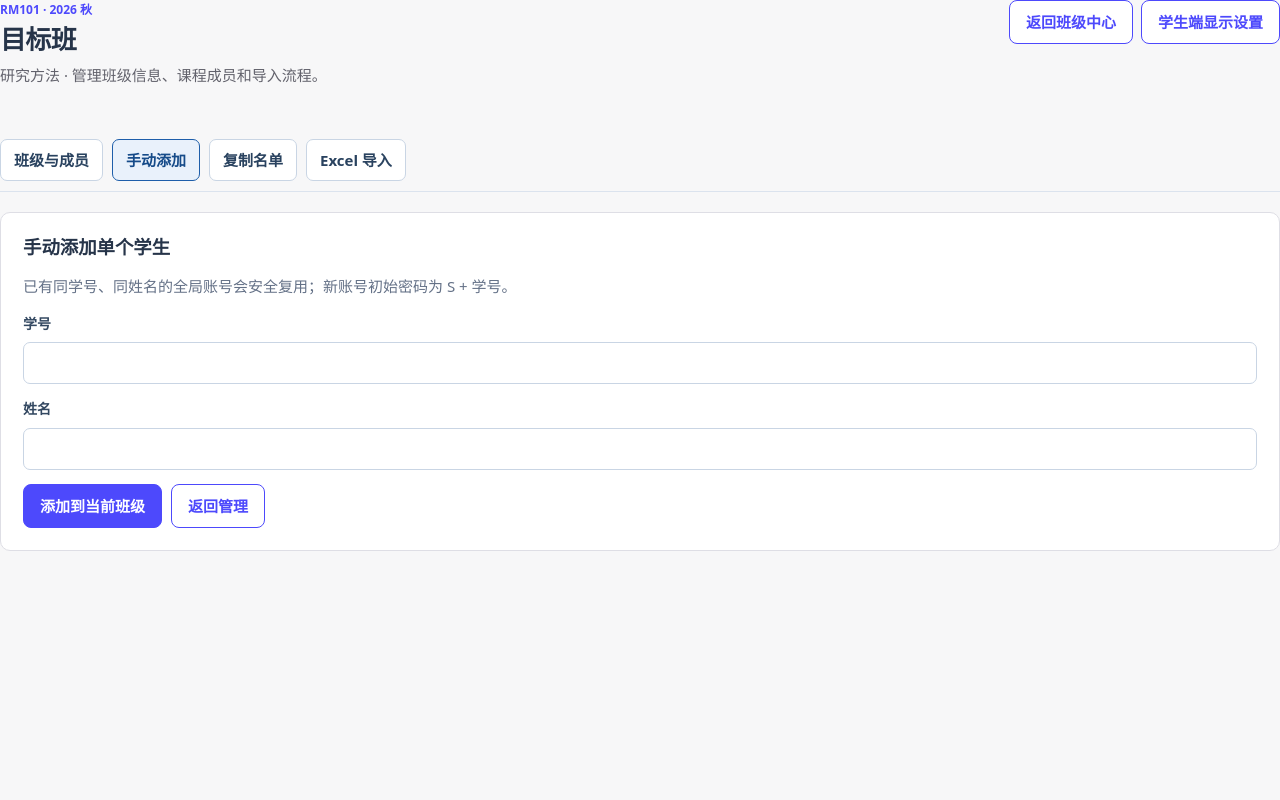
Scenario: TeacherClassManagement › discards a stale confirmation and refreshes authoritative management state
Type "S001" into the field named "student_number" at [640, 364], box [23,342,1257,384]
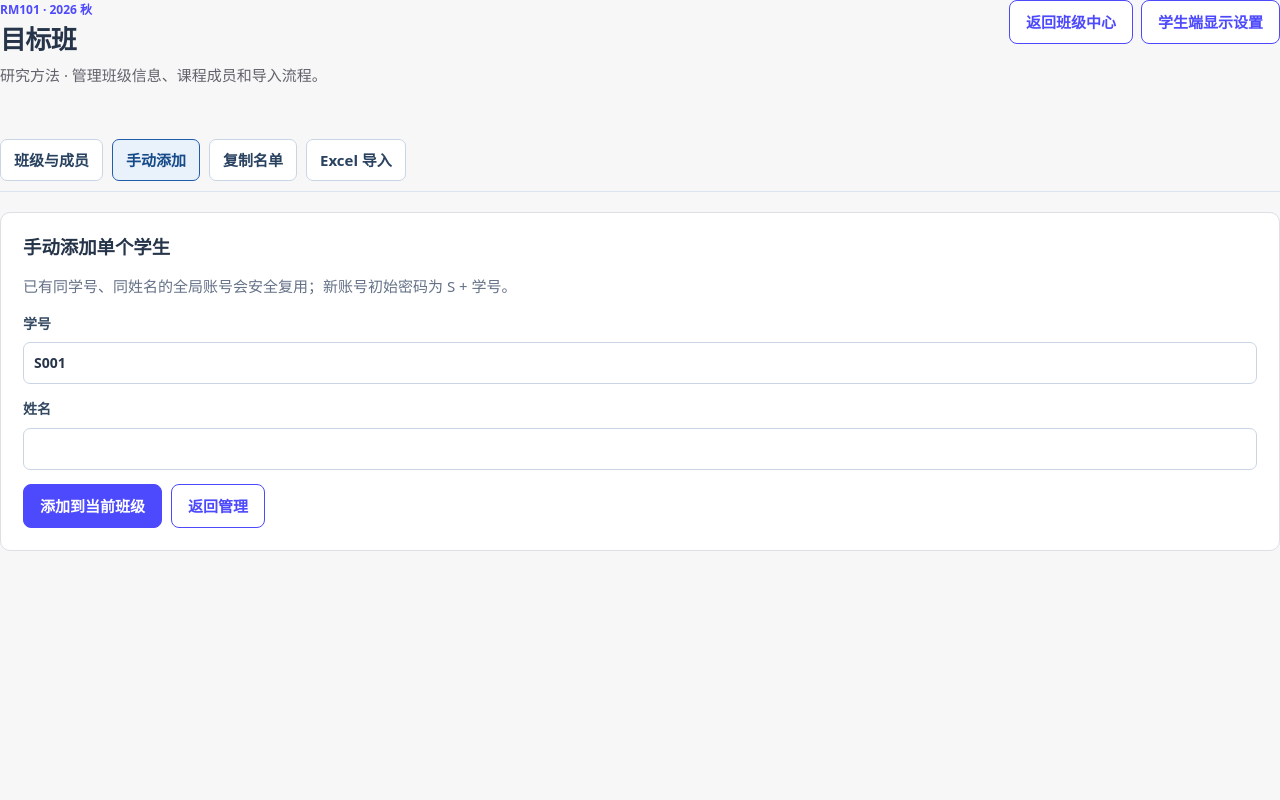
Type "新姓名" into the field named "display_name" at [640, 449], box [23,428,1257,470]
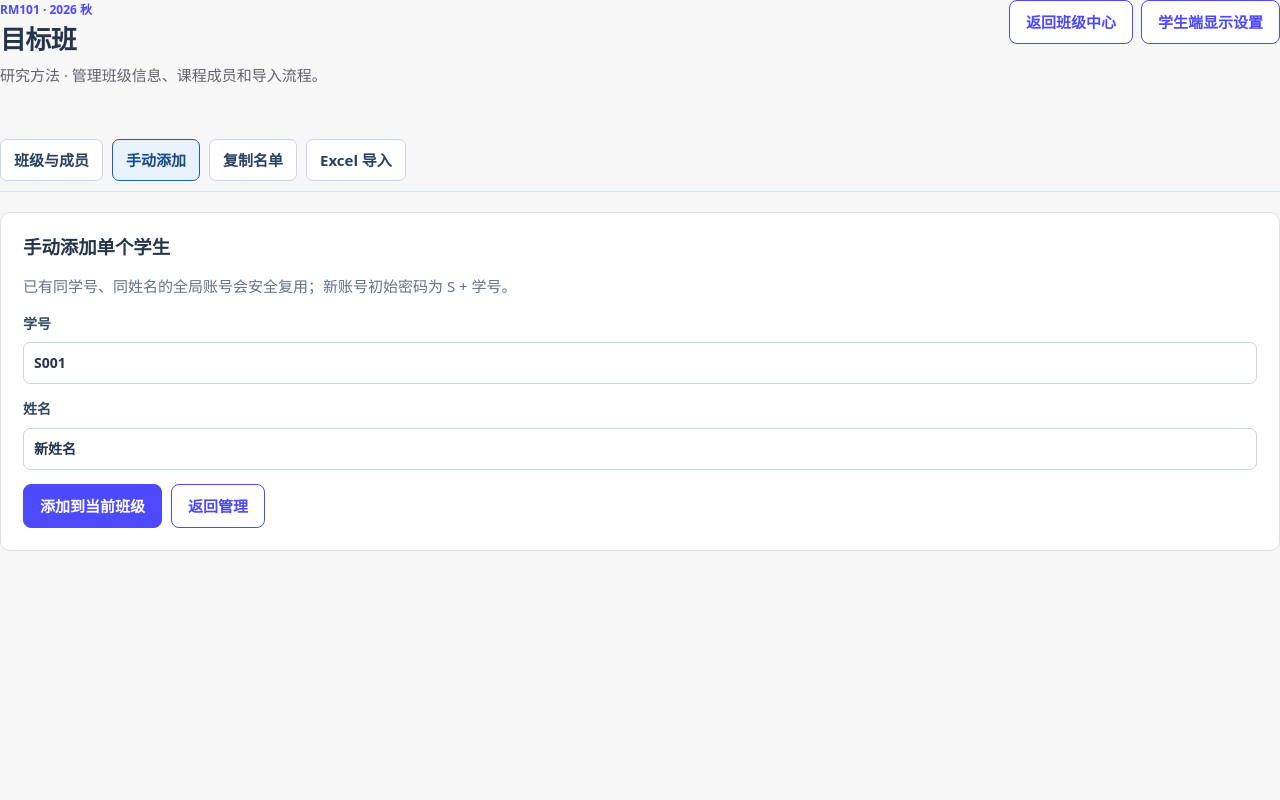
Submit the form, box [23,313,1257,528]
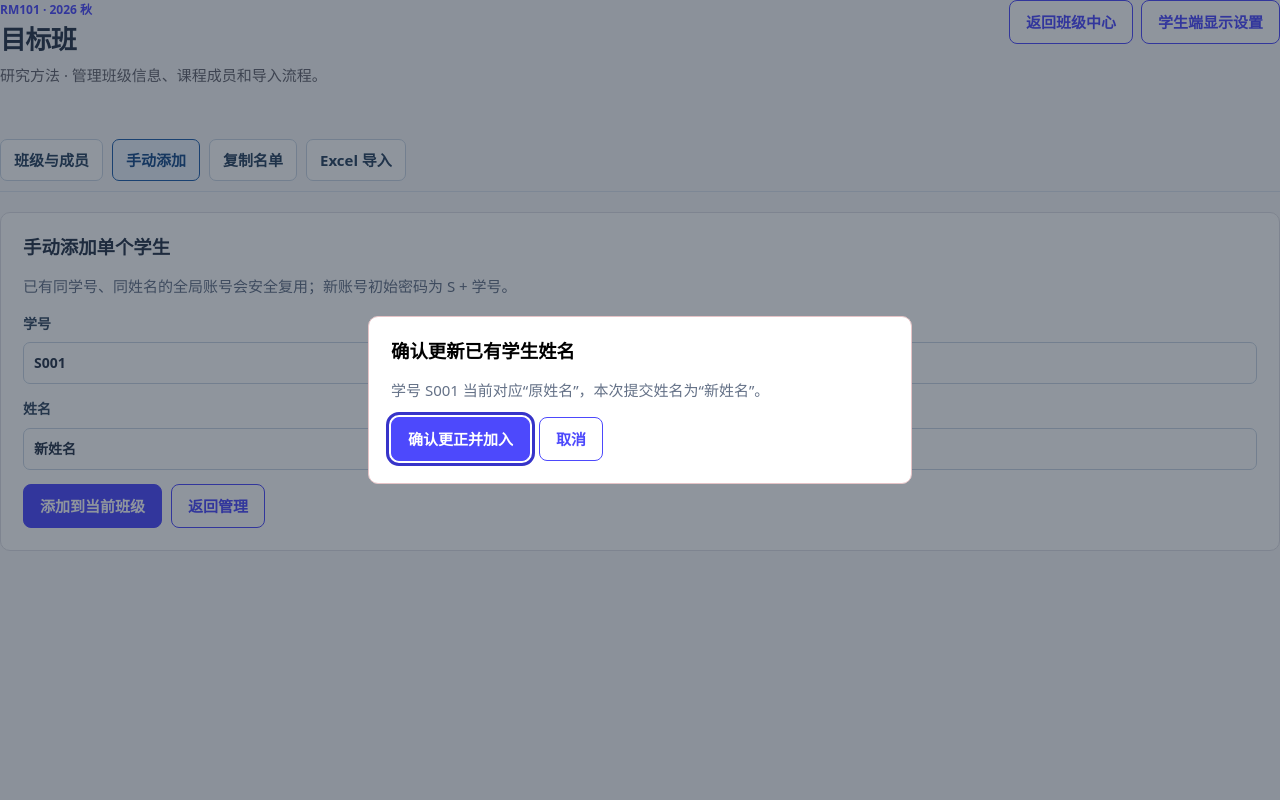
Click the button "确认更正并加入" at [460, 439], box [391,417,530,461]
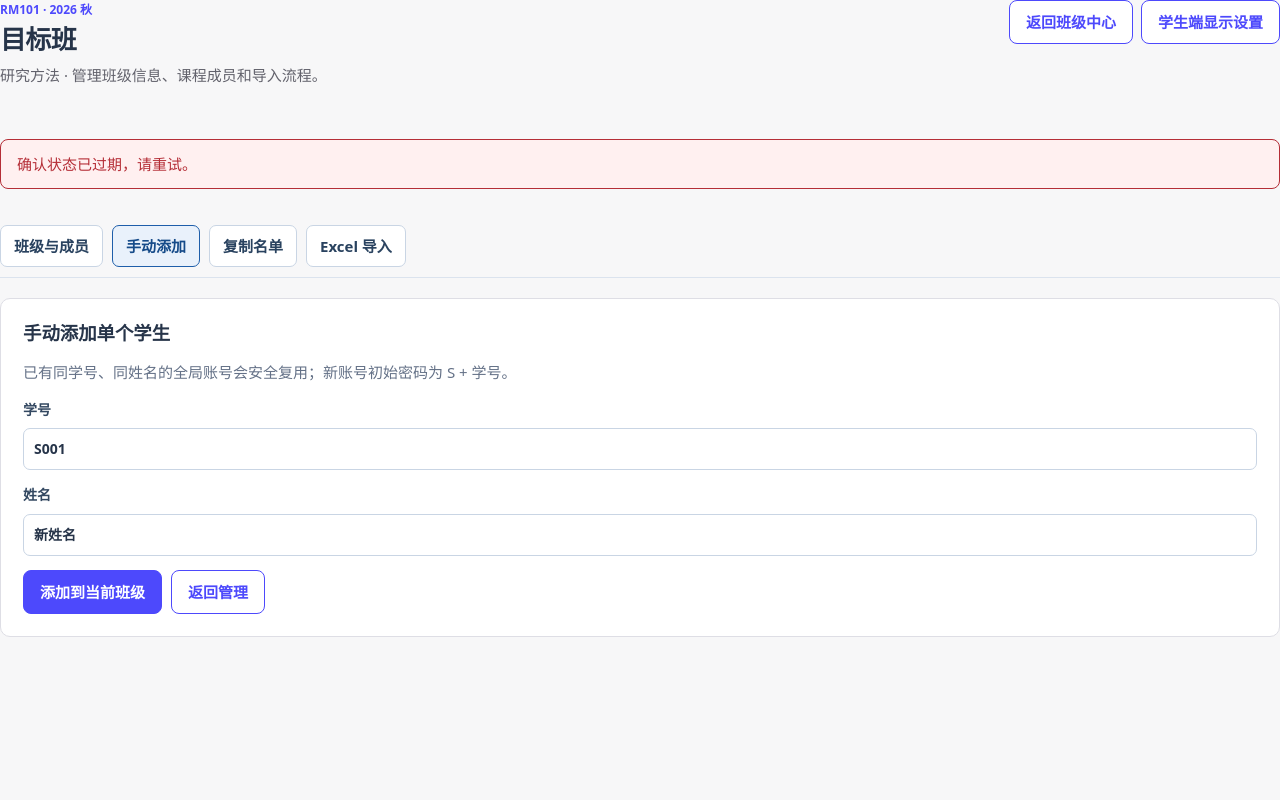
Now the text "确认状态已过期，请重试。" is shown, box [0,139,1279,189]
